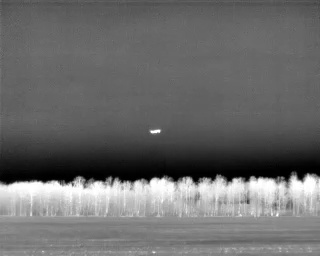DRONE: (146, 124, 166, 140)
